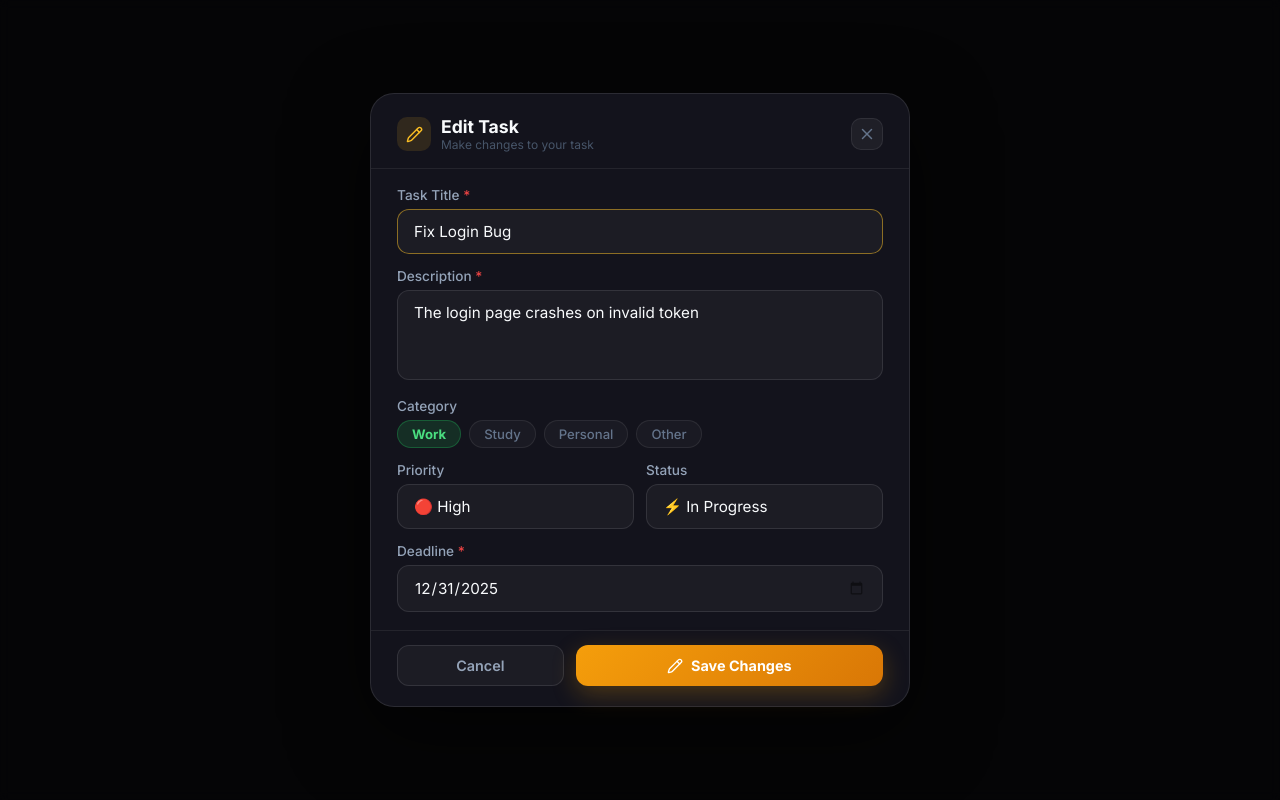
Test: EditTaskModal › shows "Deadline is required" when date is cleared
Step 1. Clear the date field showing "2025-12-31" → (640, 588), box [397,565,883,612]
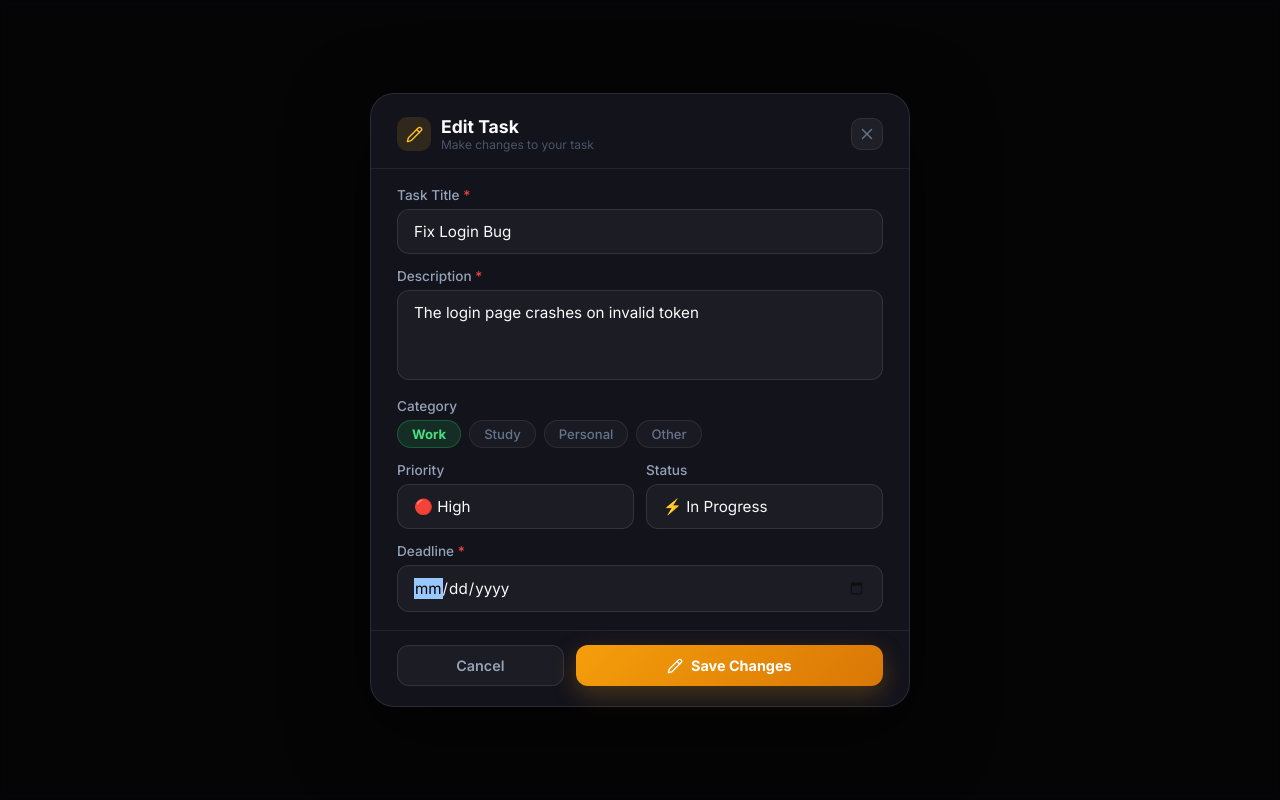
Step 2. Click the button "Save Changes" → (729, 666), box [576,645,883,686]
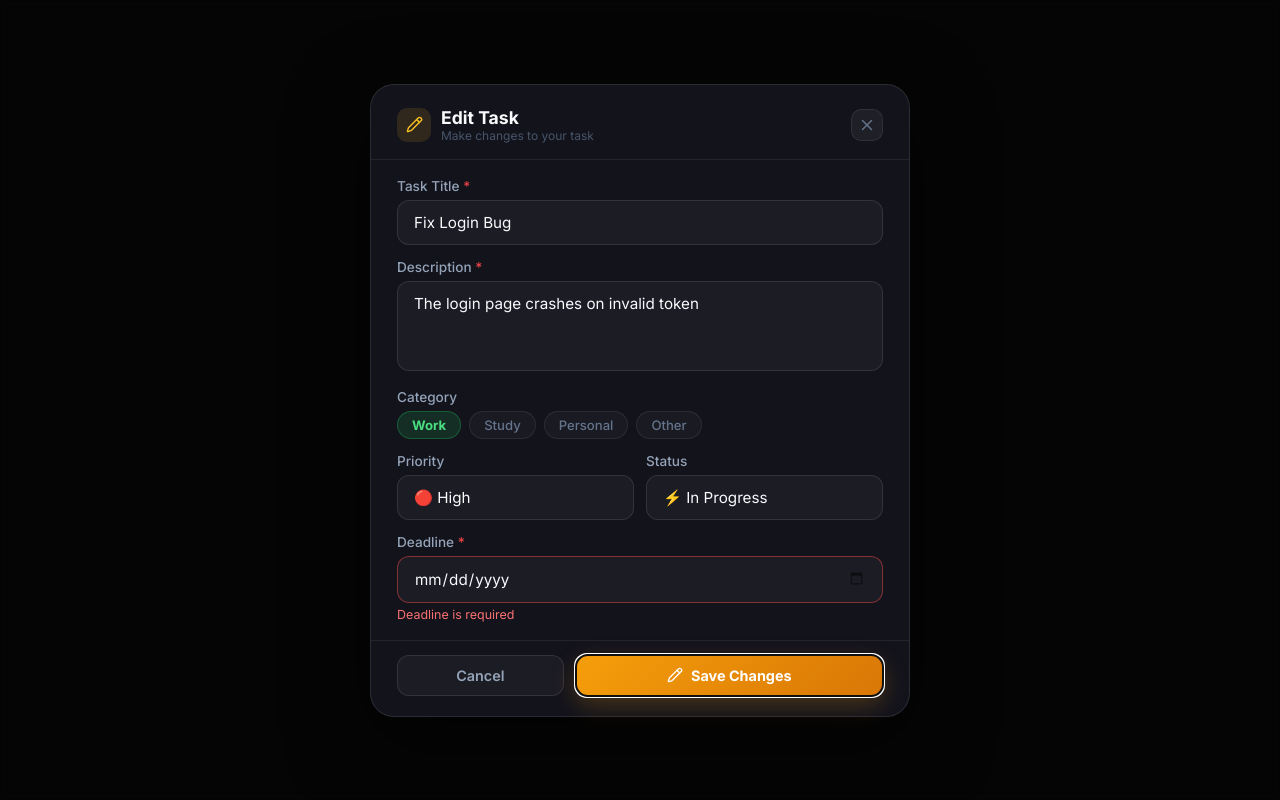
Expected: the text "Deadline is required" is shown, [397,606,514,622]
